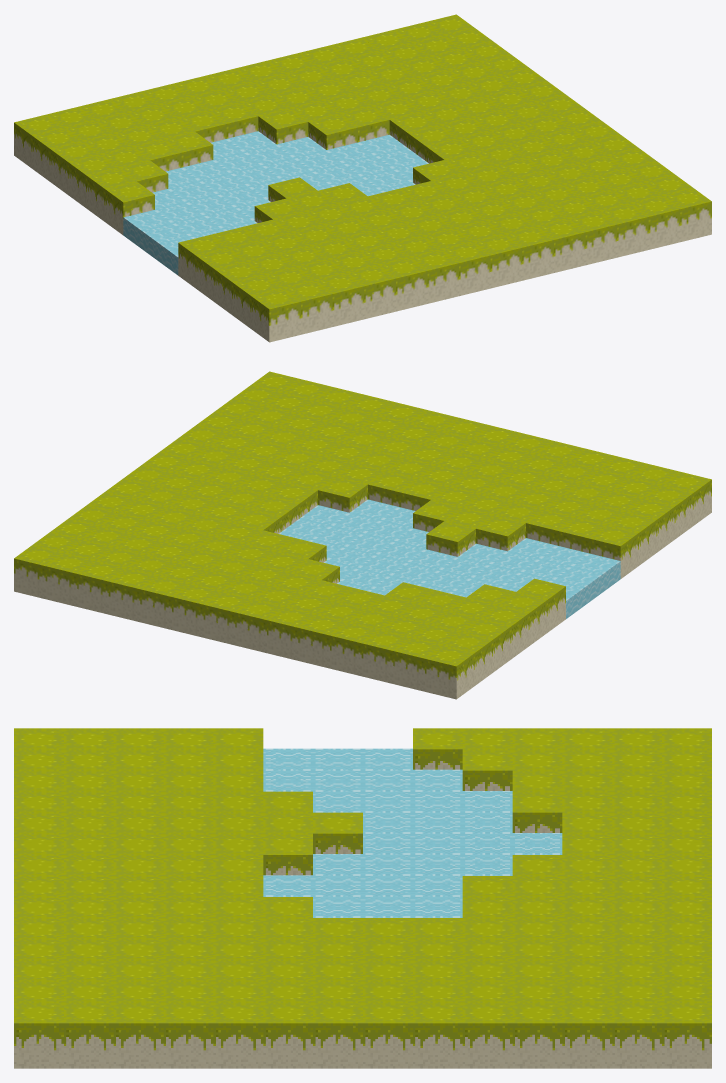
3 renders of one model, top to bottom at view 1: azimuth 30°, elevation 25°; view 2: azimuth 150°, elevation 25°; view 3: azimuth 270°, elevation 25°, orthographic. The views are drawn at different scales.
Parts seen in each view (by area): view 1: Ground_Grass_D__2__1__42__1; view 2: Ground_Grass_D__2__1__42__1; view 3: Ground_Grass_D__2__1__42__1.
Part boxes in pixels (x1,y1,x2,y2): Ground_Grass_D__2__1__42__1: [14, 14, 711, 342]; Ground_Grass_D__2__1__42__1: [14, 371, 711, 699]; Ground_Grass_D__2__1__42__1: [14, 728, 711, 1068].
Bounding box in the file's own units: 8400 × 600 × 8400.
2 materials, 2 textured.
